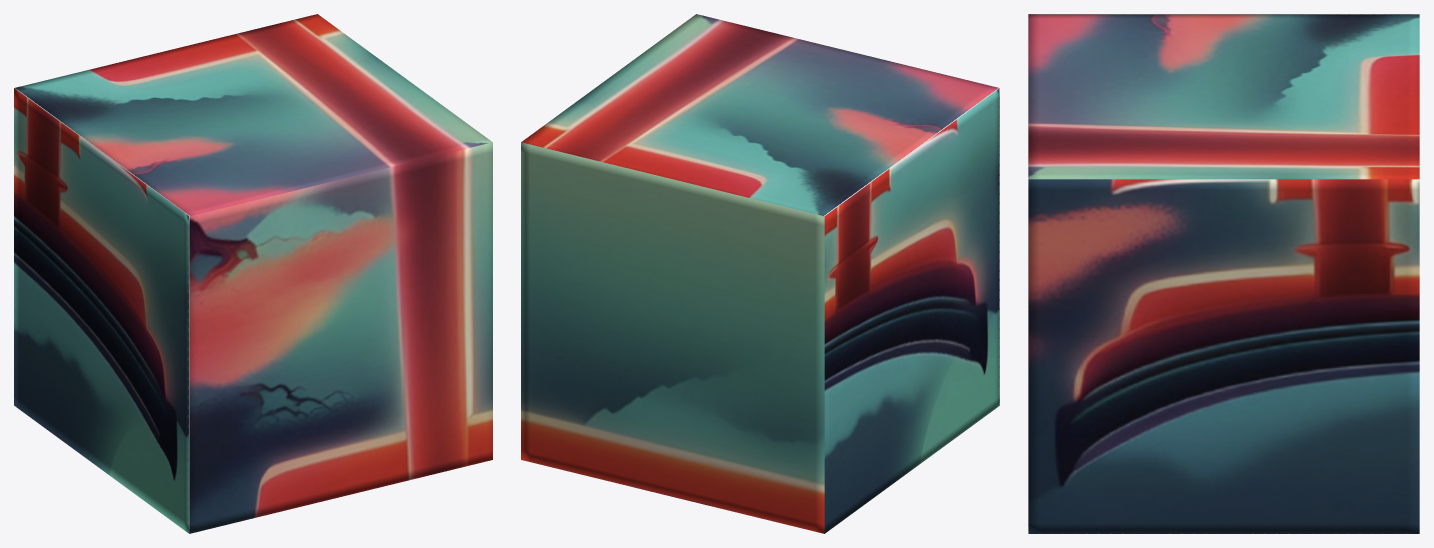
Rendered from kanban.glb.
3 views of the same model, side by side, from view 1: azimuth 30°, elevation 25°; view 2: azimuth 150°, elevation 25°; view 3: azimuth 270°, elevation 25° (orthographic). The views are drawn at different scales.
Visible parts, largest first — view 1: ボックス; view 2: ボックス; view 3: ボックス.
Boxes of the visible parts, x1,y1,x2,y2 form: ボックス: [14, 14, 492, 533]; ボックス: [521, 14, 999, 533]; ボックス: [1028, 14, 1419, 533].
Bounding box in the file's own units: 1 × 1 × 1.
Materials: 1 (1 with a texture image).
